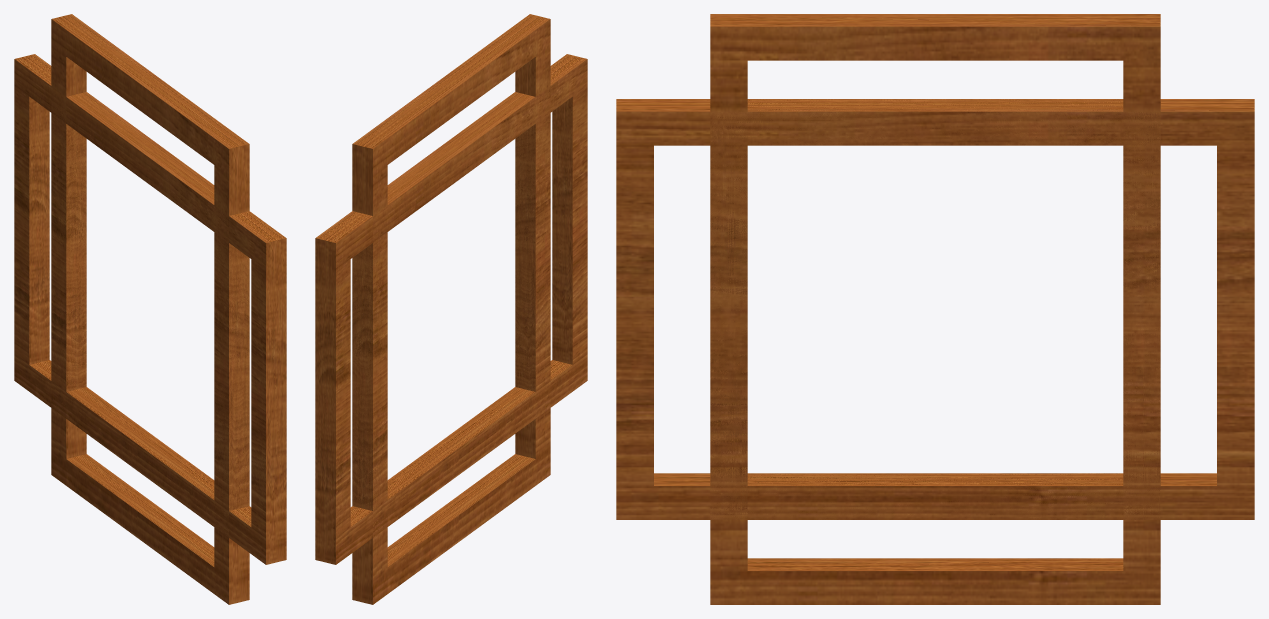
Rendered from frames.glb.
3 views of the same model, side by side, from view 1: azimuth 30°, elevation 25°; view 2: azimuth 150°, elevation 25°; view 3: azimuth 270°, elevation 25° (orthographic). The views are drawn at different scales.
Visible parts, largest first — view 1: Cube.005, Cube.001, Cube.003; view 2: Cube.005, Cube.003, Cube.001; view 3: Cube.005, Cube.001, Cube.003.
Boxes of the visible parts, <box> form: Cube.005: <box>51,14,249,604</box>; Cube.001: <box>51,87,249,537</box>; Cube.003: <box>14,54,286,564</box>; Cube.005: <box>352,14,550,604</box>; Cube.003: <box>315,54,587,564</box>; Cube.001: <box>352,86,550,537</box>; Cube.005: <box>710,14,1160,604</box>; Cube.001: <box>710,99,1160,519</box>; Cube.003: <box>616,99,1254,519</box>.
Size of the model in its own units: 0.4 by 8.5 by 8.5.
Materials: 1 (1 with a texture image).
